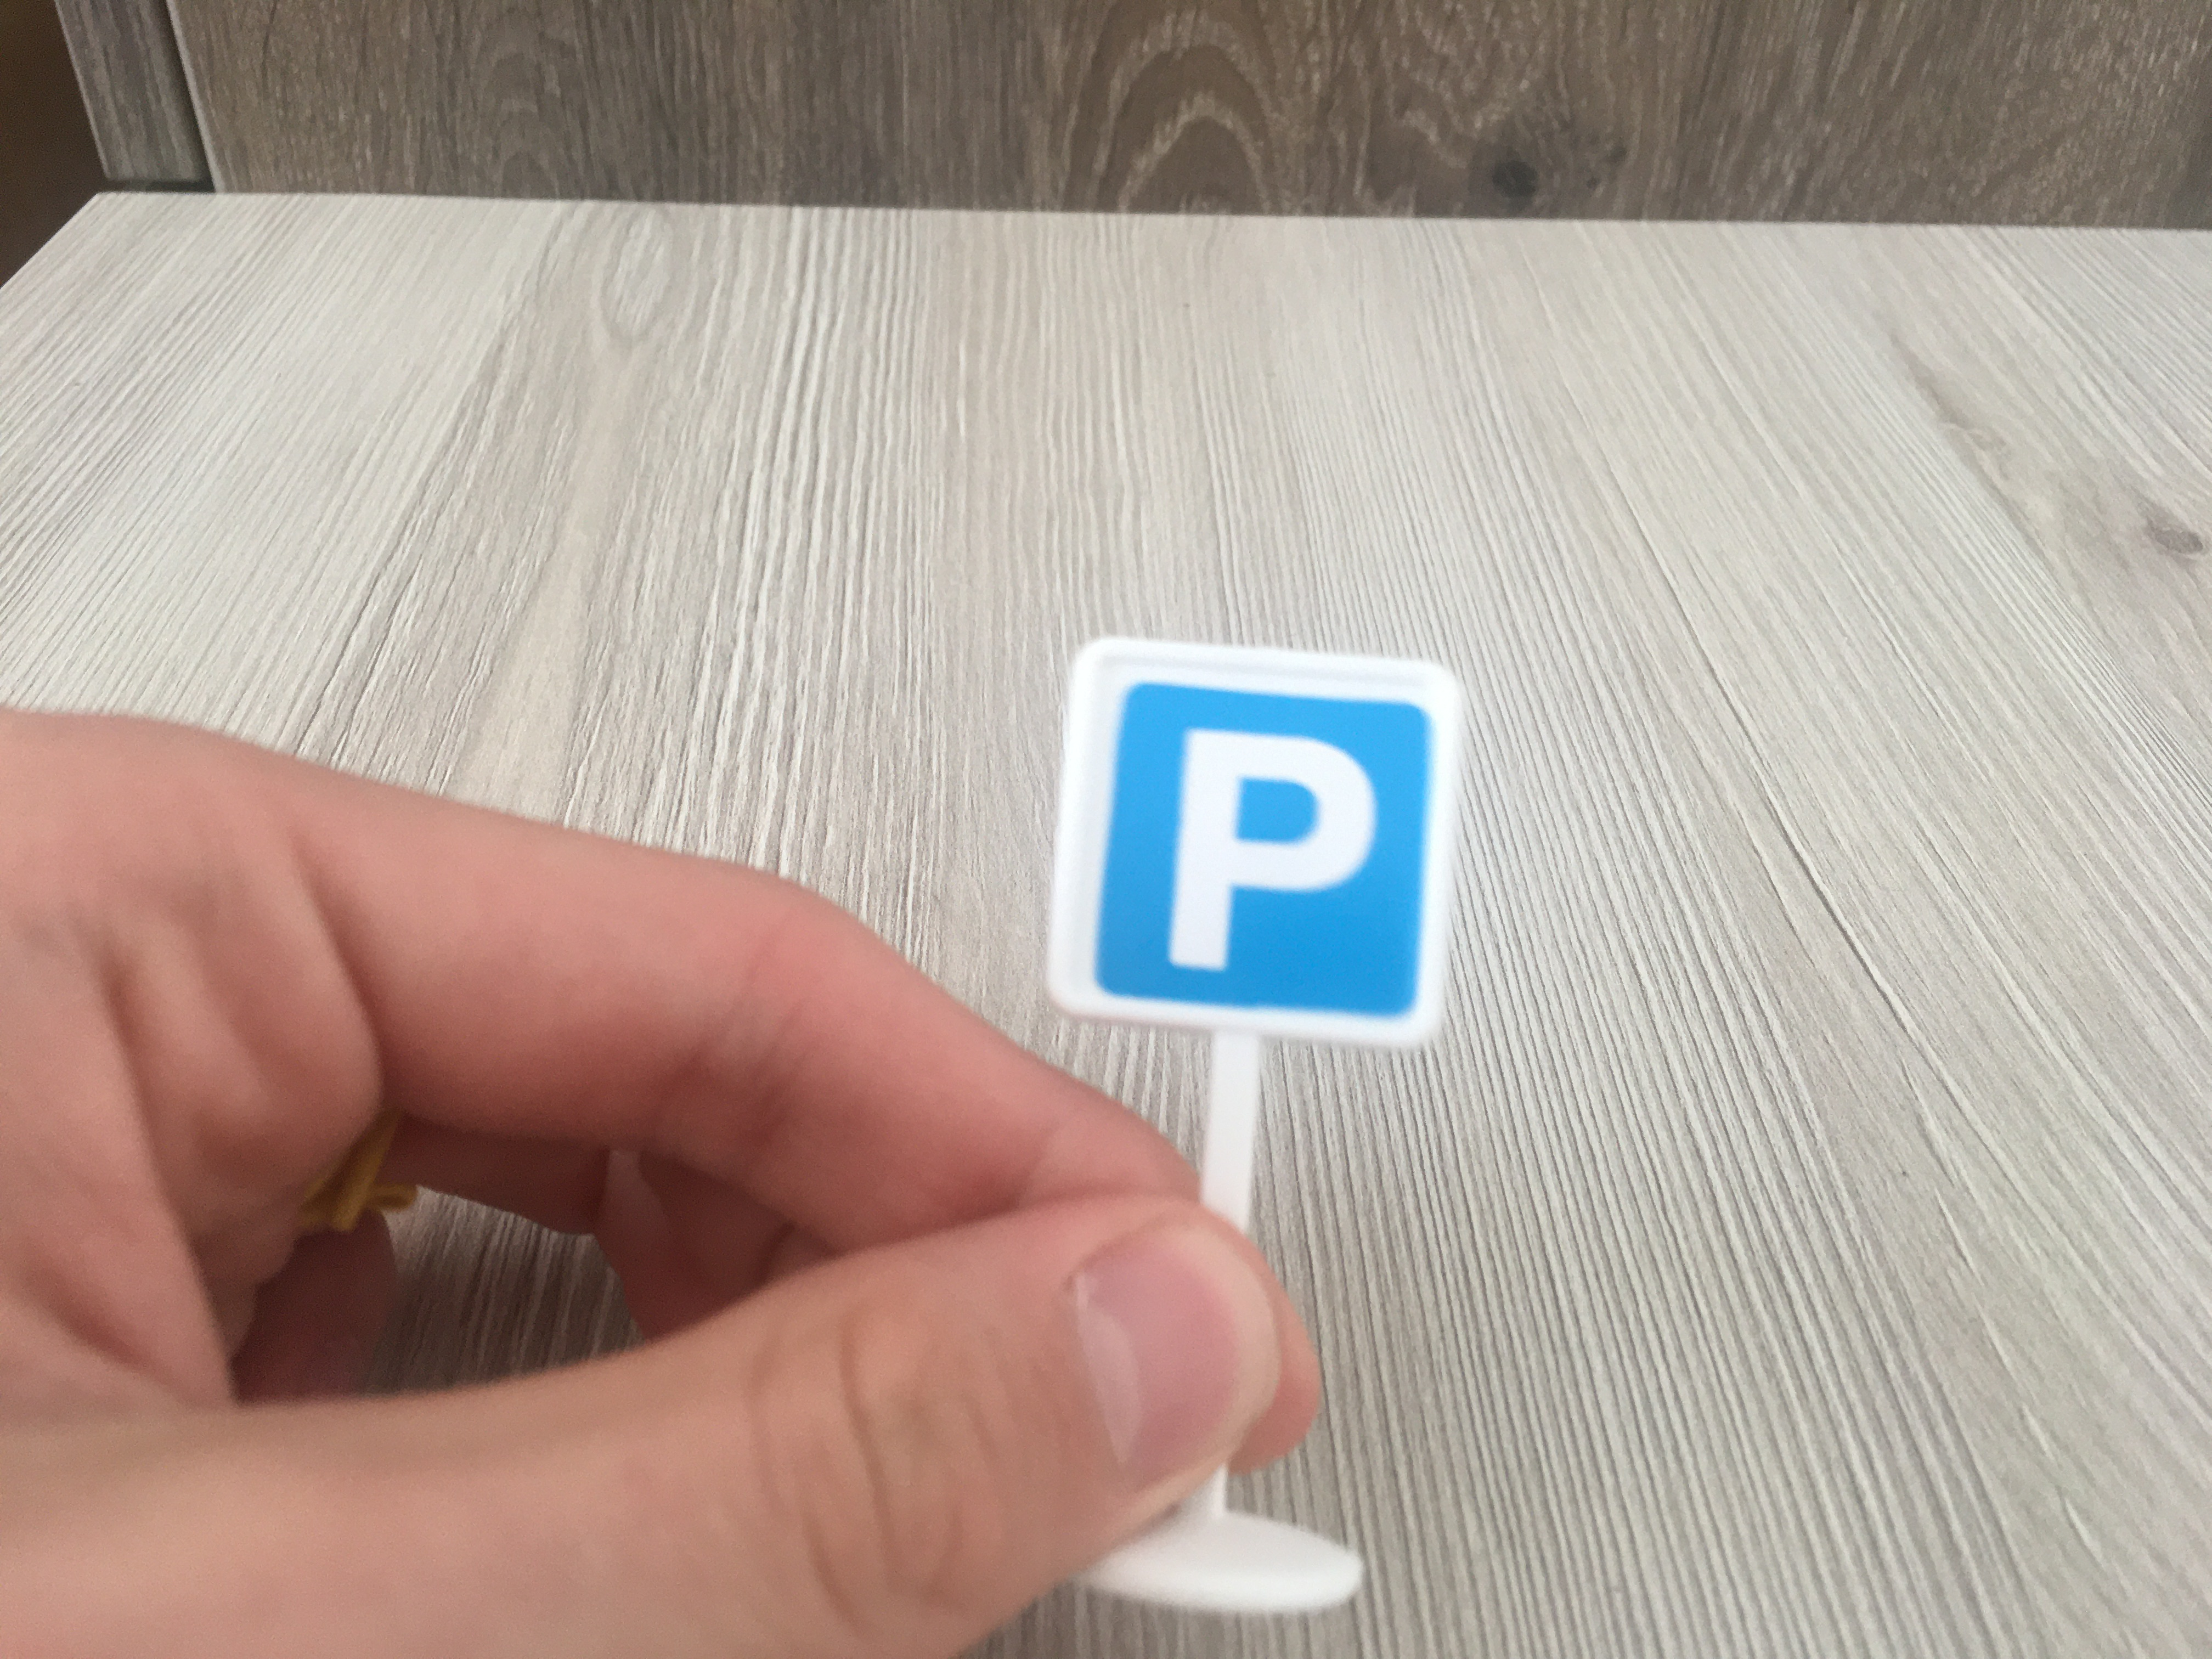parking: (1061, 634, 1461, 1063)
